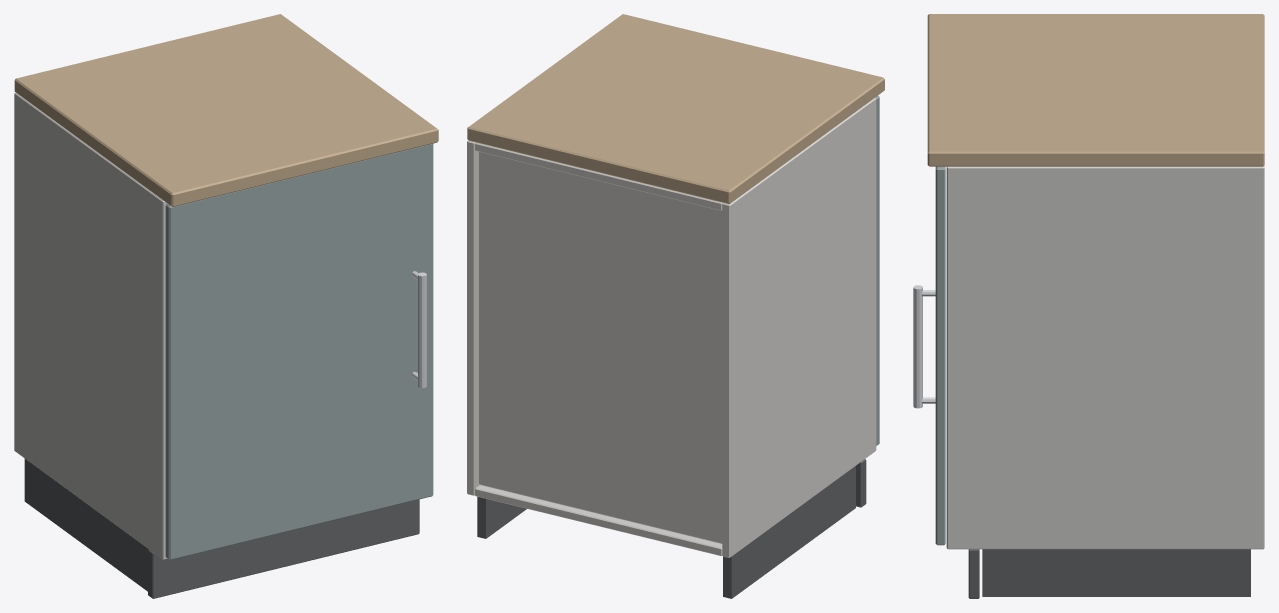
File: base-600-89129dae.glb
3 views of the same model, side by side, from view 1: azimuth 30°, elevation 25°; view 2: azimuth 150°, elevation 25°; view 3: azimuth 270°, elevation 25° (orthographic). The views are drawn at different scales.
Visible parts, largest first — view 1: base-600, door-left/front, door-left/metal; view 2: base-600, door-left/front; view 3: base-600, door-left/front, door-left/metal.
Part boxes in pixels (bbox=[...]): base-600: bbox=[14, 14, 438, 598]; door-left/front: bbox=[165, 143, 433, 560]; door-left/metal: bbox=[411, 271, 426, 388]; base-600: bbox=[467, 14, 884, 598]; door-left/front: bbox=[875, 95, 879, 445]; base-600: bbox=[927, 14, 1264, 598]; door-left/front: bbox=[935, 166, 945, 545]; door-left/metal: bbox=[913, 285, 935, 408].
Size of the model in its own units: 0.6001 by 0.9 by 0.641.
